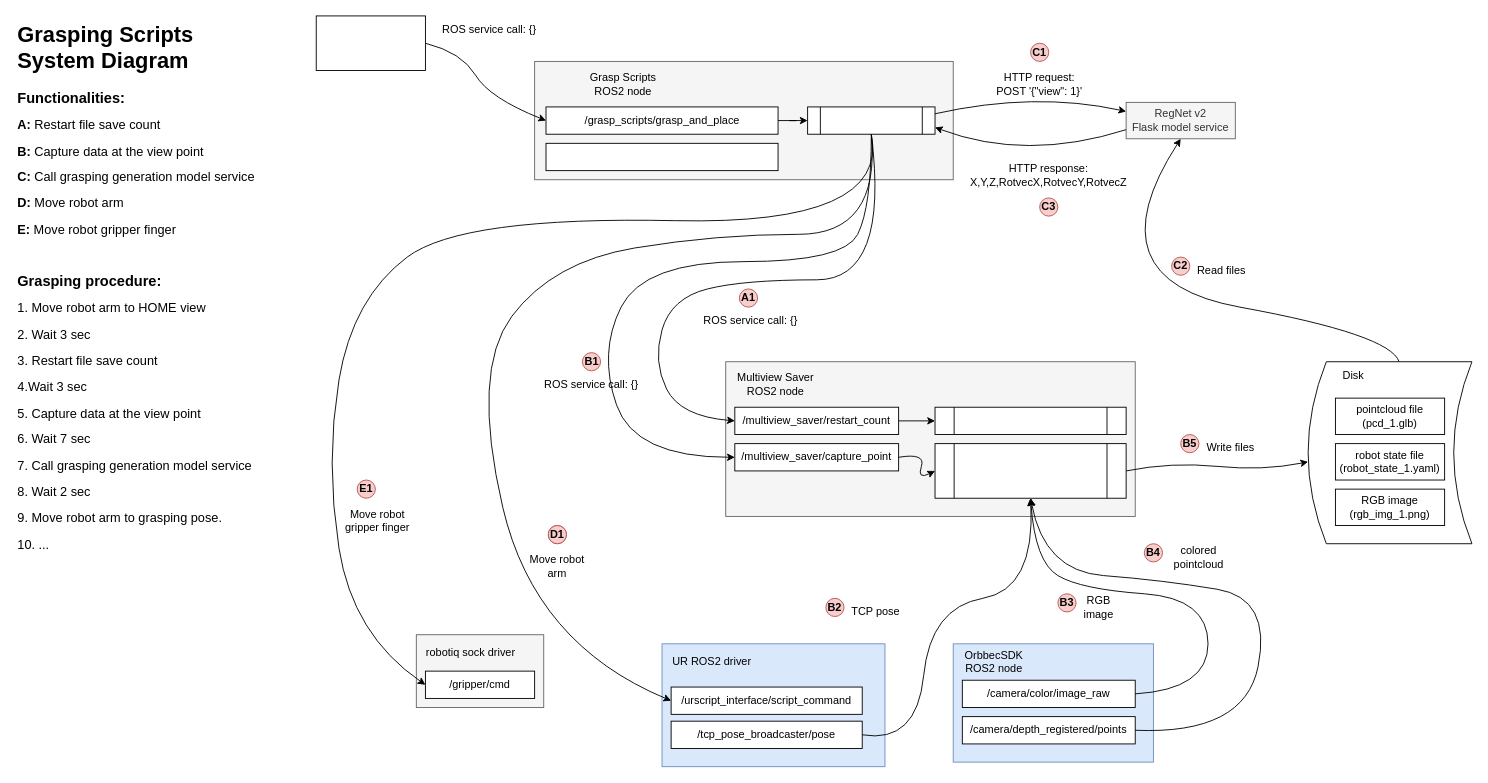
Image size: 1488x783. Some labels were removed from this diagram. The shapes that lost their labels are listed below. From the top down, each one's box as (x1, y1, x2, y2) in pixels, then its label:
(315, 15, 425, 71): Terminal (manual trigger)
(807, 106, 935, 134): Run grasping script (single view)
(545, 142, 778, 171): /grasp_scripts/grasp_and_place_three_view
(934, 406, 1126, 435): (A1.5): Restart save count to 1
(934, 443, 1126, 498): (B1.5): Aquire data. (B4.5): Post-processing data
